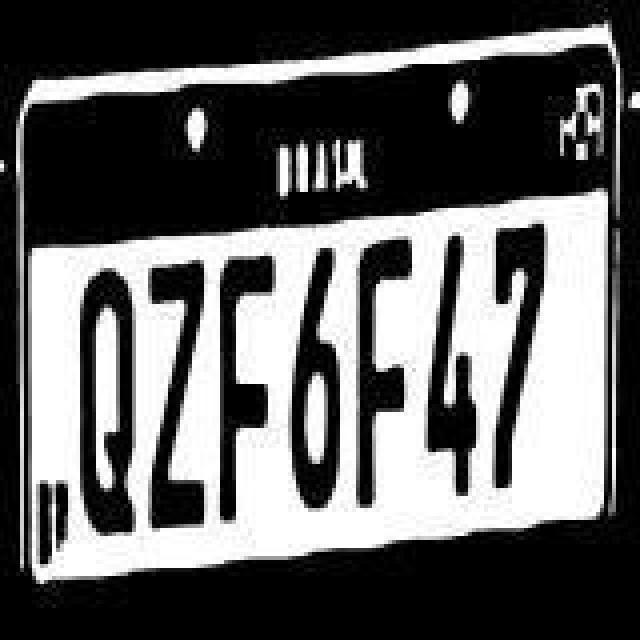4: (422, 224, 482, 512)
6: (282, 234, 342, 518)
7: (484, 214, 556, 498)
F: (350, 230, 418, 522), (218, 250, 278, 534)
Q: (74, 244, 142, 548)
Z: (142, 250, 210, 542)
